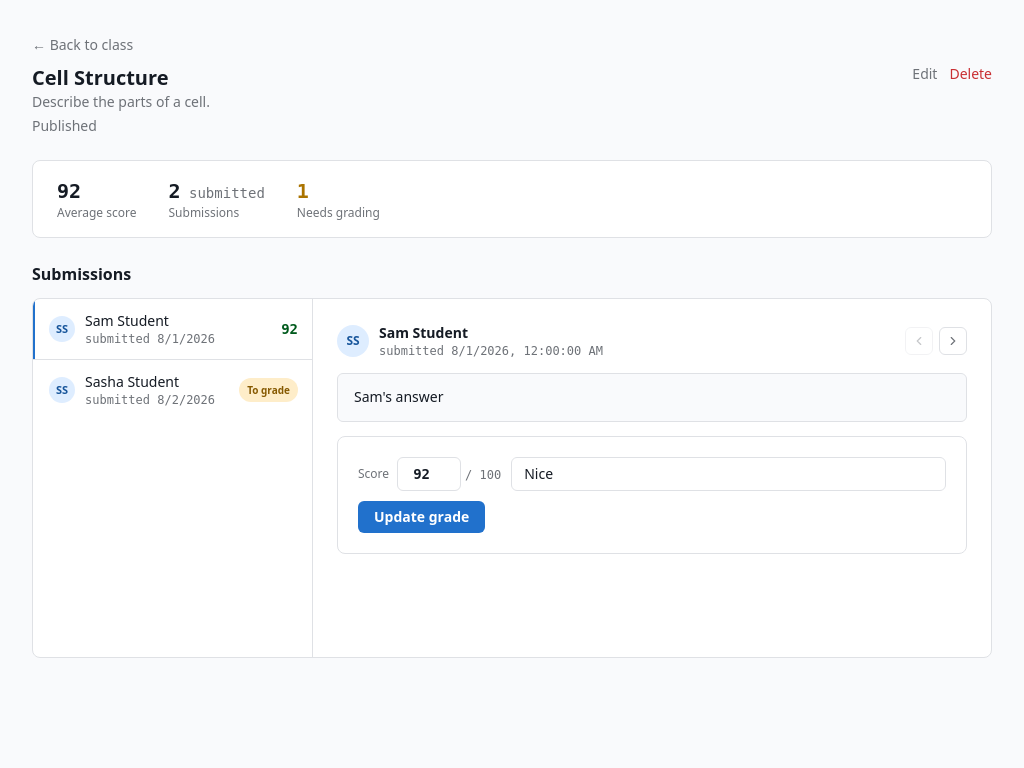
it: AssignmentDetailPage › switches the detail pane by clicking a different submission in the list
The width and height of the screenshot is (1024, 768).
Expected: the text "Sam's answer" is shown, [337,373,967,422]
Expected: the text "sasha's answer" is not shown
// Selecting Sasha from the list swaps the detail pane.
Click the button "SS Sasha Student submitted 8/2/2026 To grade" at (172, 390), box [33,360,312,420]
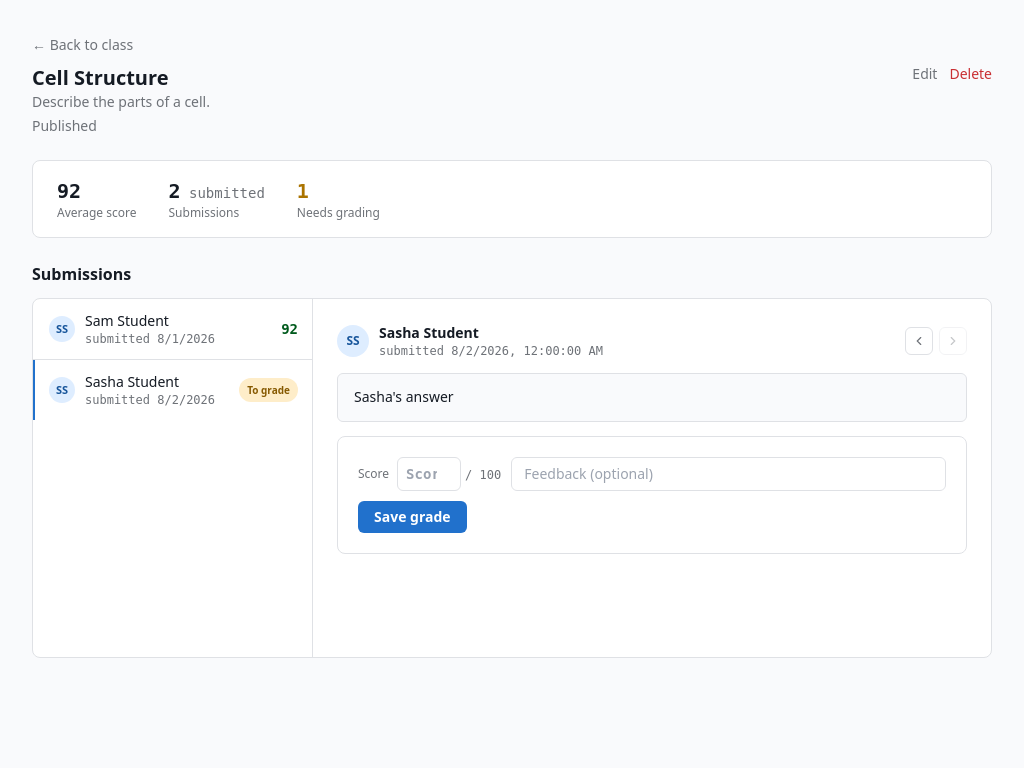
Expected: the button named "next submission" is disabled, [939,327,967,355]
Expected: the text "Sasha's answer" is shown, [337,373,967,422]
Expected: the text "Sam's answer" is gone
// Prev arrow goes back to Sam.
Click the button named "previous submission" at (919, 341), box [905,327,933,355]
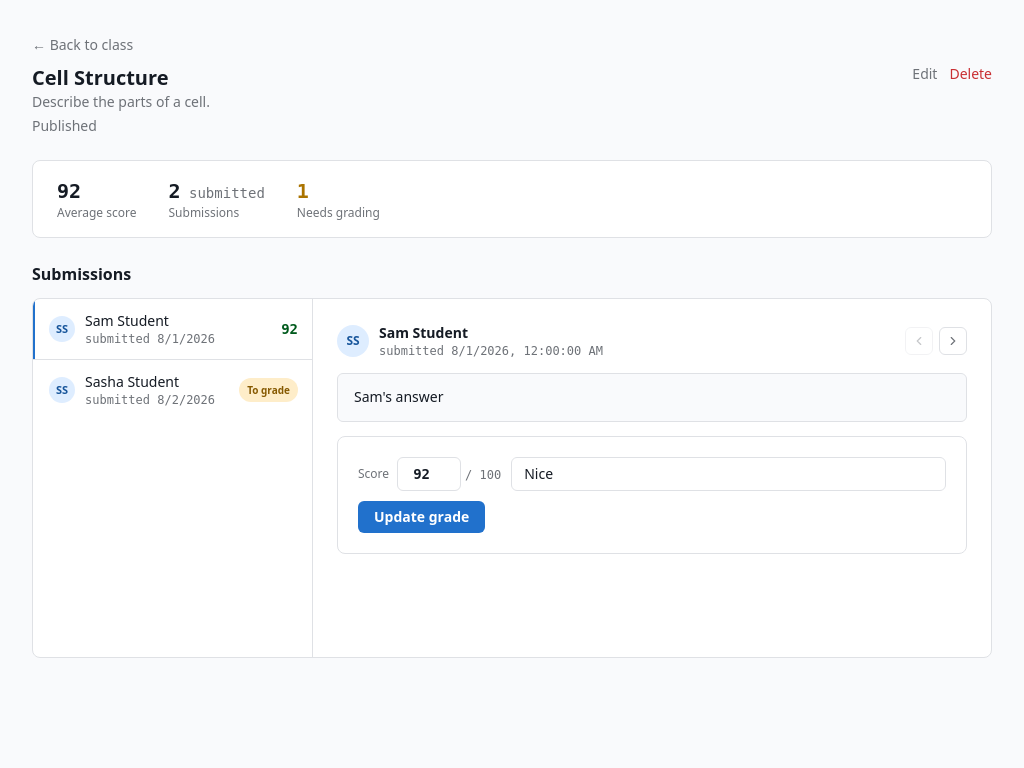
Expected: the text "Sam's answer" is shown, [337,373,967,422]
// Next arrow goes forward to Sasha again.
Click the button named "next submission" at (953, 341), box [939,327,967,355]
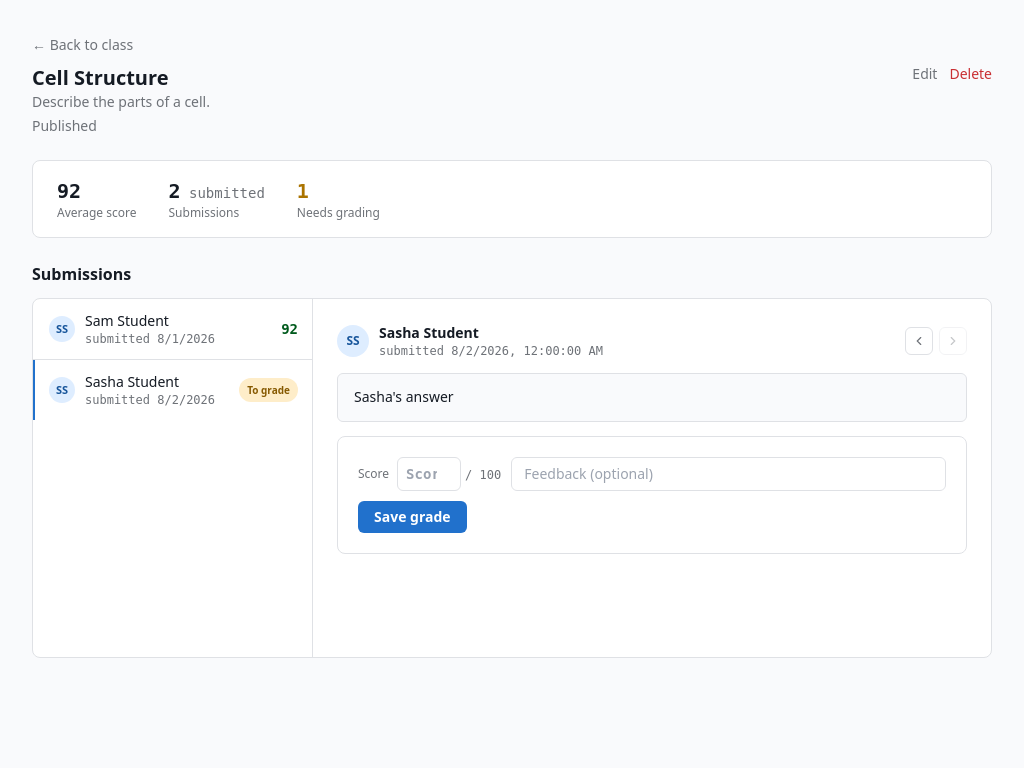
Expected: the text "Sasha's answer" is shown, [337,373,967,422]
